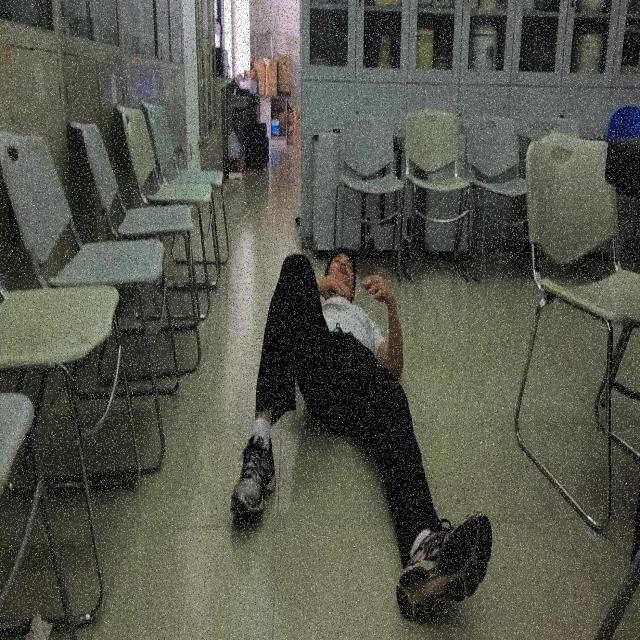fall: (230, 238, 492, 630)
